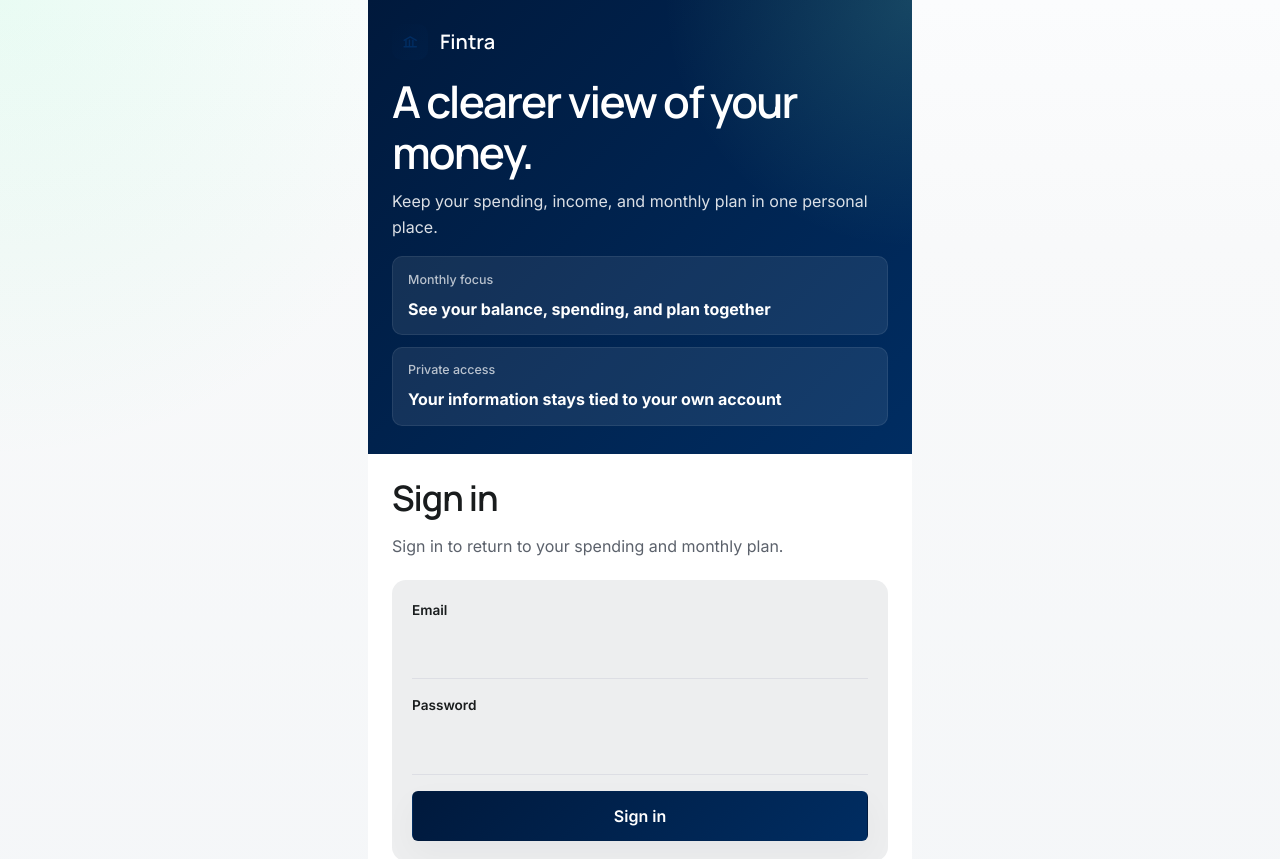
Scenario: SignInPage › validates empty credentials
Click the button "Sign in" at (640, 816), box top-left (412, 791), bottom-right (868, 841)
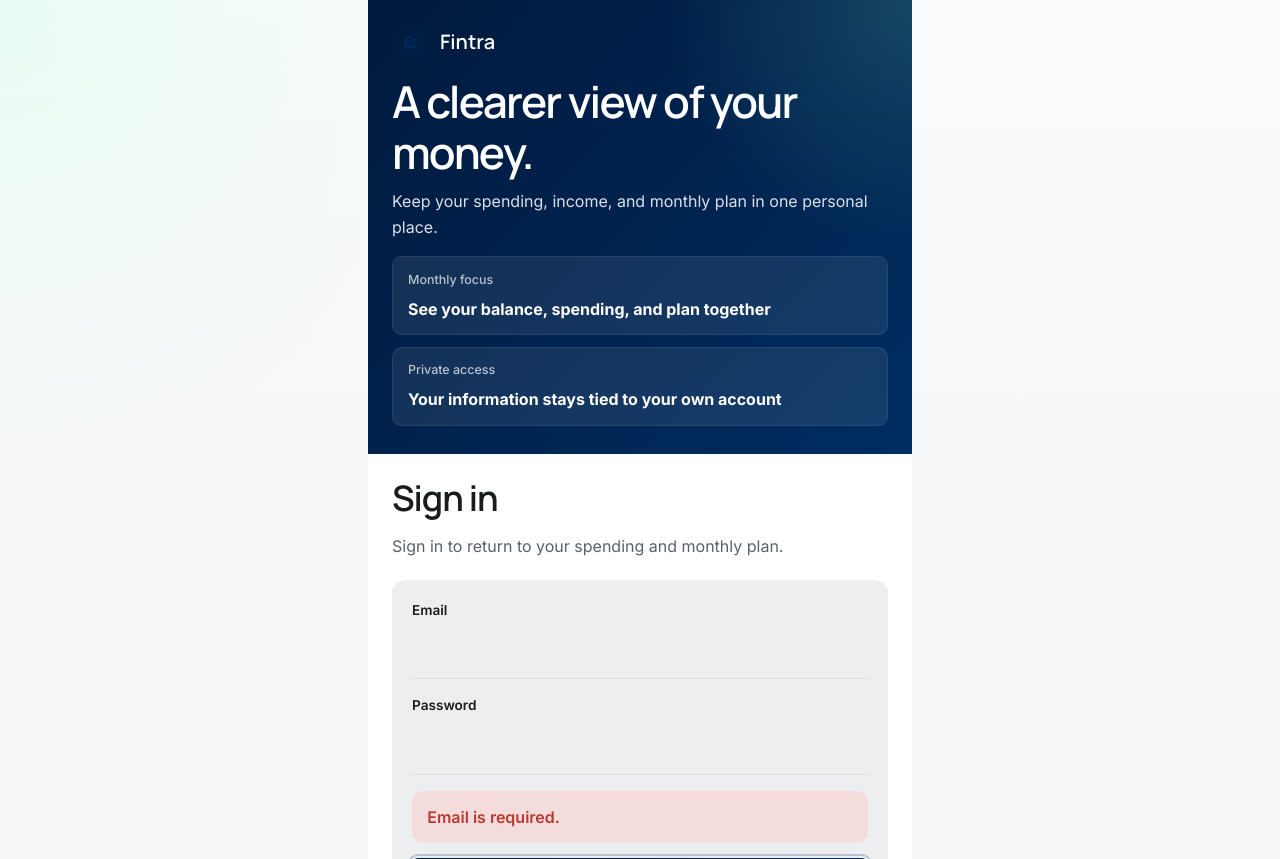
Now the text "Email is required." is shown, box top-left (412, 791), bottom-right (868, 842)
